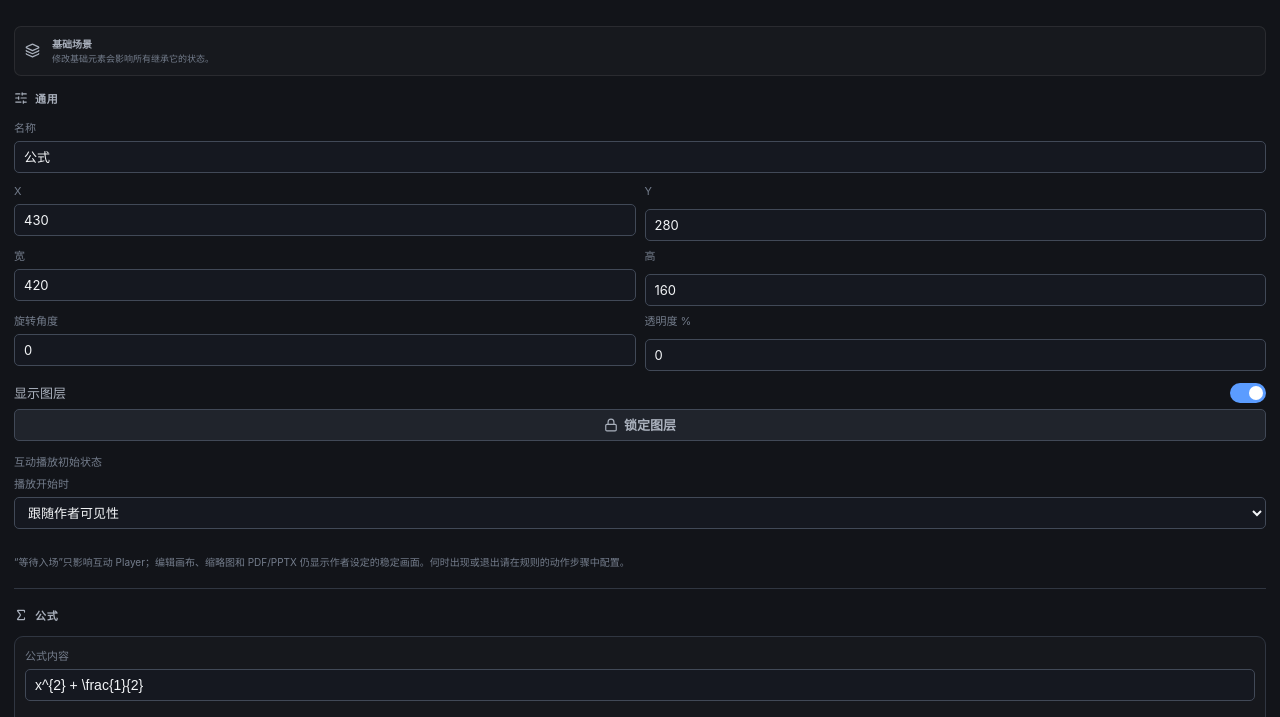
Test: FormulaNode authoring UI › supports slot navigation and Escape cancellation without touching project history
Clear the field named "公式内容（线性输入）". click: point(640, 685)
box: 25,669 -> 1255,701
(page scrolled)
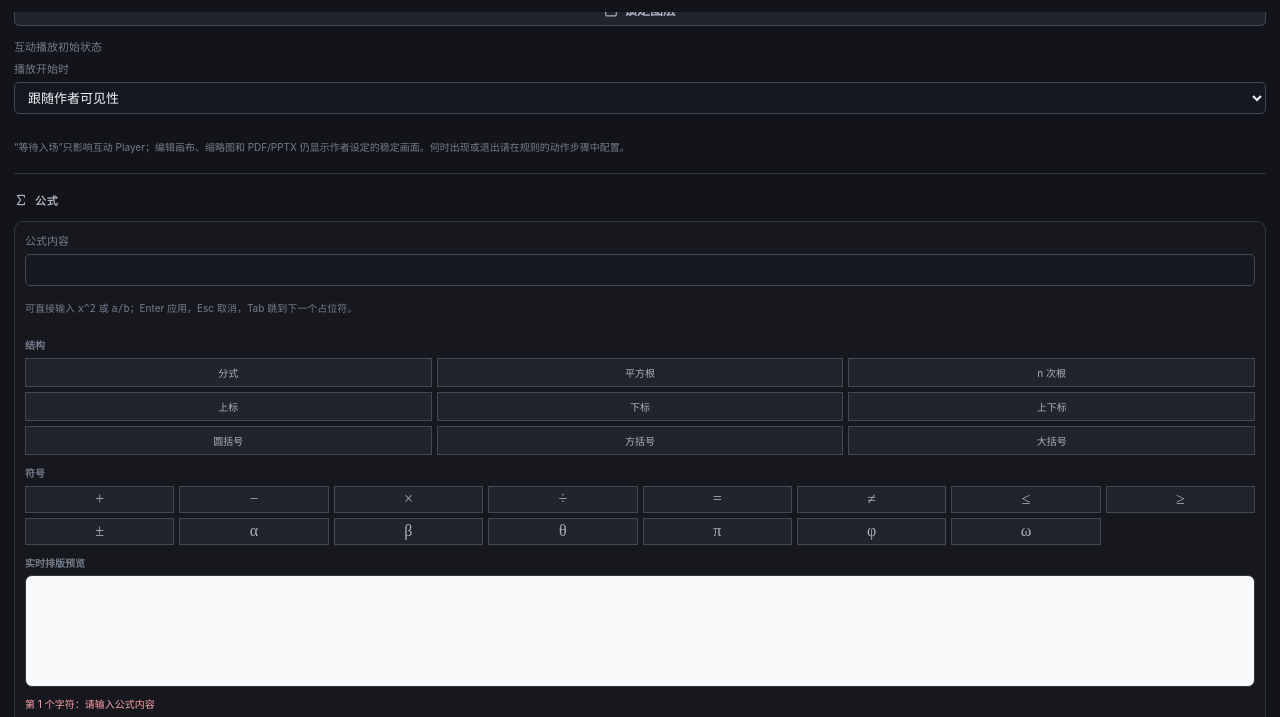
Click the button "n 次根". click: point(1052, 372)
box: 848,358 -> 1255,387
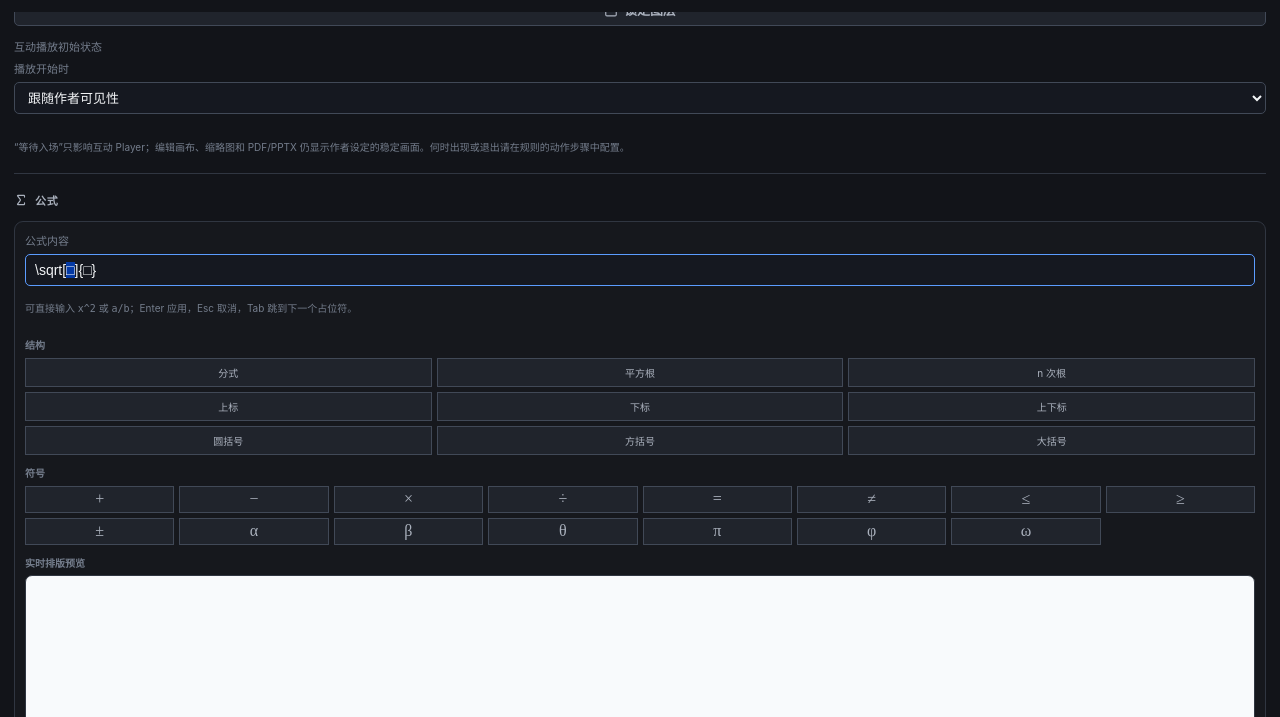
Expected: the field named "公式内容（线性输入）" holds "\\sqrt[□]{□}"
Press Tab in the field named "公式内容（线性输入）", box 25,254 -> 1255,286
Press Escape in the field named "公式内容（线性输入）", box 25,254 -> 1255,286
(page scrolled)
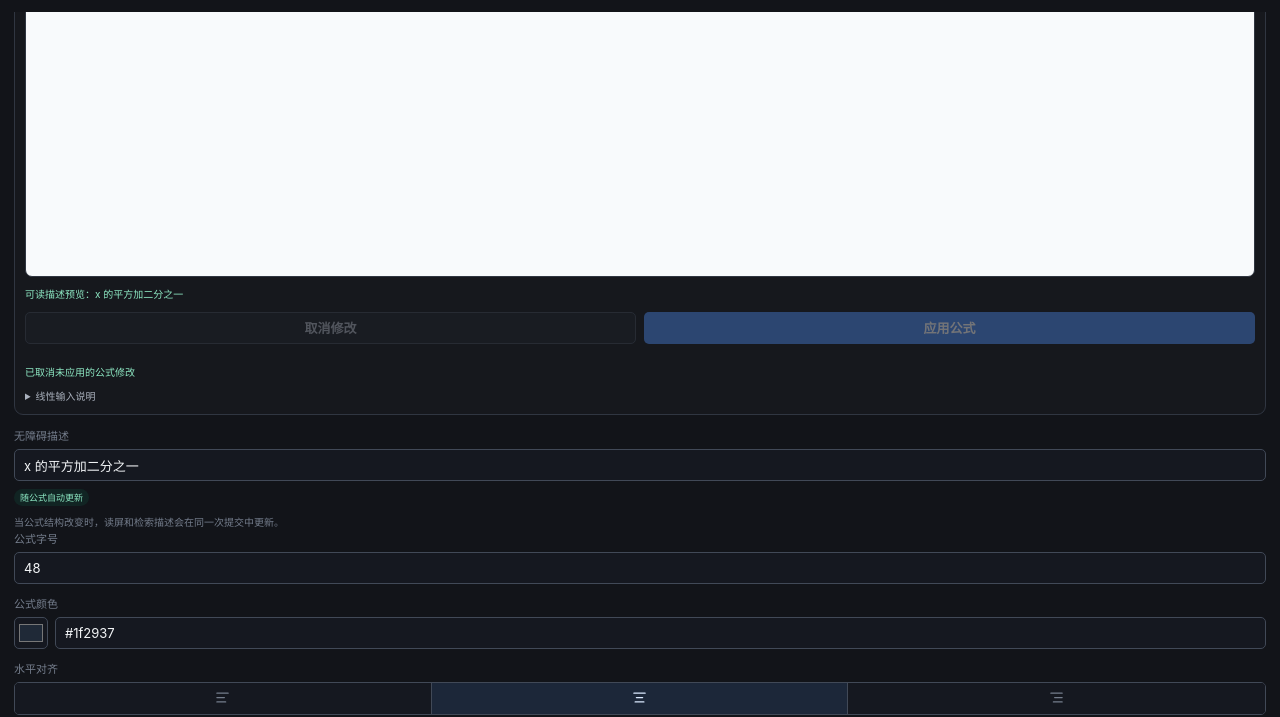
Expected: the text "已取消未应用的公式修改" is shown, 25,366 -> 135,378
